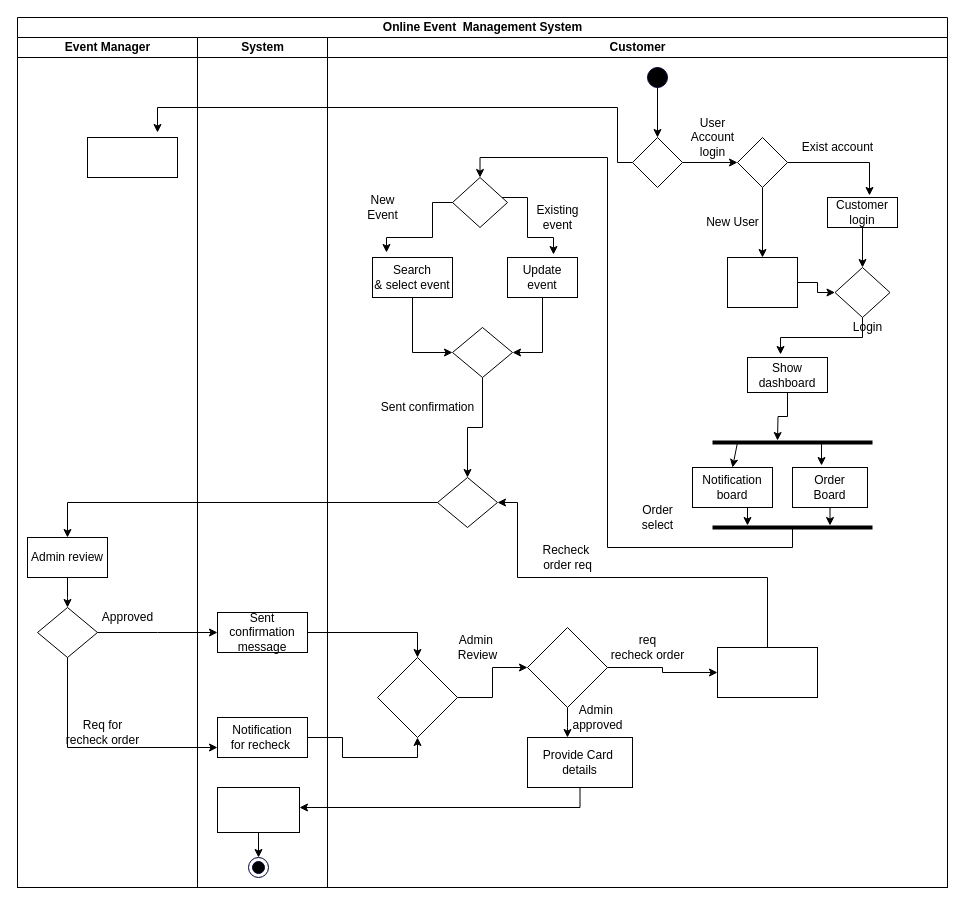
Image size: 965x905. Some labels were removed from this diagram. Here are the shapes that lost their labels. From the top down, the centre of each, then its label:
(132,157): Event Manager login
(762,282): Registration & Create account
(767,672): Update order
(258,809): Mark Paid
